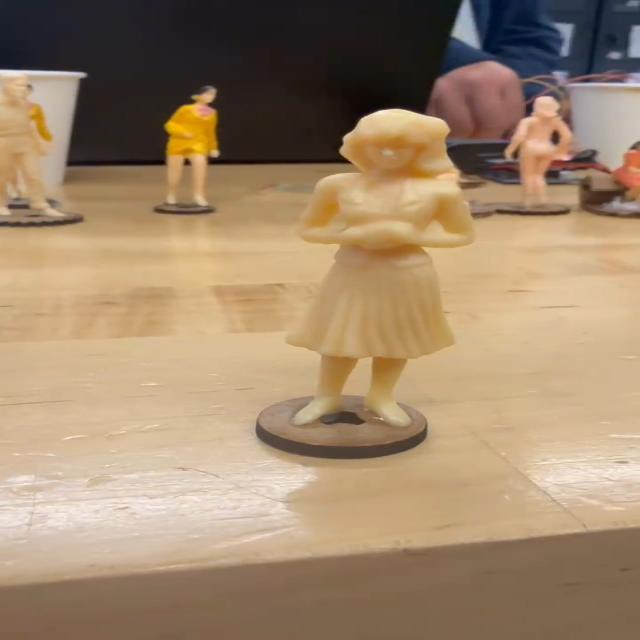Unauthorized: (293, 100, 475, 442)
